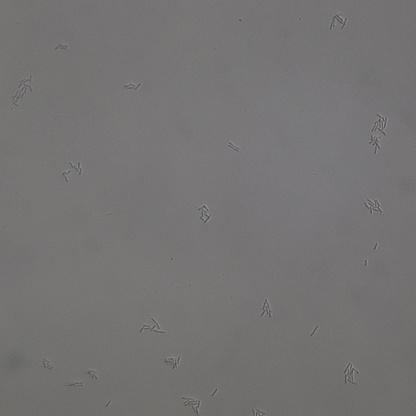R(colony): (12, 76, 32, 106), (139, 318, 166, 336), (62, 160, 82, 182), (371, 113, 389, 135), (344, 362, 360, 386), (329, 12, 349, 31), (182, 396, 201, 414), (364, 197, 383, 213), (258, 299, 273, 317), (164, 354, 181, 369), (198, 203, 210, 224), (368, 136, 382, 154), (123, 81, 143, 93), (42, 357, 56, 372), (85, 369, 99, 380)
